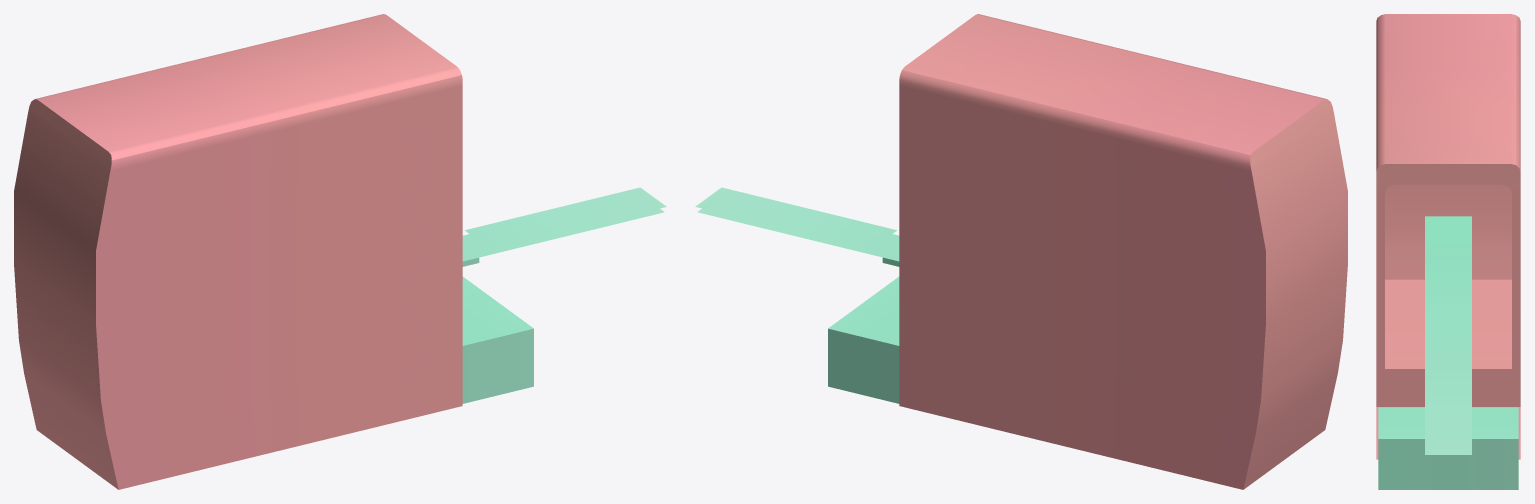
Rendered from sellportalsellpart.fbx.
3 views of the same model, side by side, from view 1: azimuth 30°, elevation 25°; view 2: azimuth 150°, elevation 25°; view 3: azimuth 270°, elevation 25° (orthographic). The views are drawn at different scales.
Parts seen in each view (by area): view 1: Plane.003, Plane.002, Plane.005; view 2: Plane.003, Plane.002, Plane.005; view 3: Plane.003, Plane.002, Plane.005.
Boxes of the visible parts, box(x1,y1,x2,y2) form: Plane.003: box(14, 14, 462, 489); Plane.002: box(462, 208, 664, 403); Plane.005: box(465, 187, 666, 249); Plane.003: box(899, 14, 1347, 489); Plane.002: box(697, 208, 899, 403); Plane.005: box(695, 187, 896, 249); Plane.003: box(1376, 14, 1520, 459); Plane.002: box(1378, 216, 1518, 489); Plane.005: box(1425, 375, 1471, 451).
Size of the model in its own units: 3691 by 1976 by 876.
